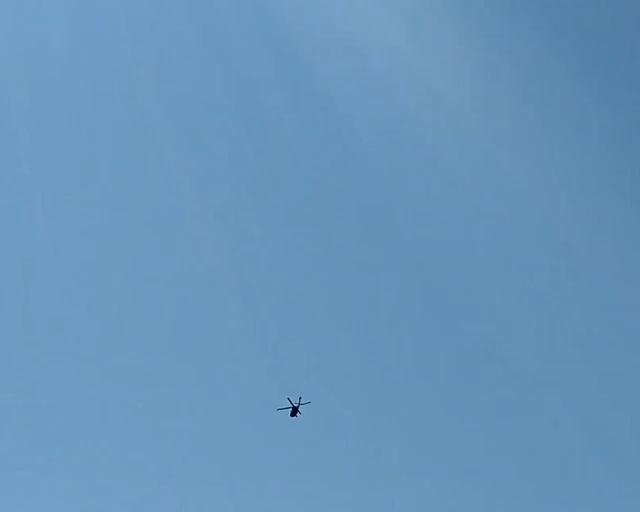HELICOPTER: (276, 395, 311, 418)
